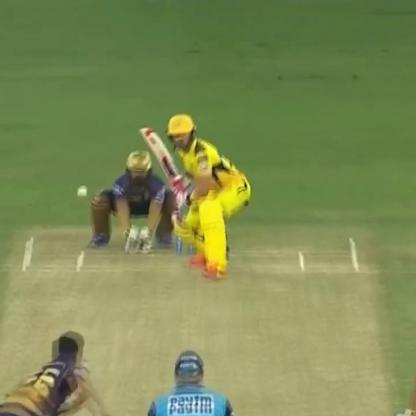ball: (74, 182, 85, 198)
bat: (147, 114, 196, 201)
pitch: (0, 219, 405, 415)
